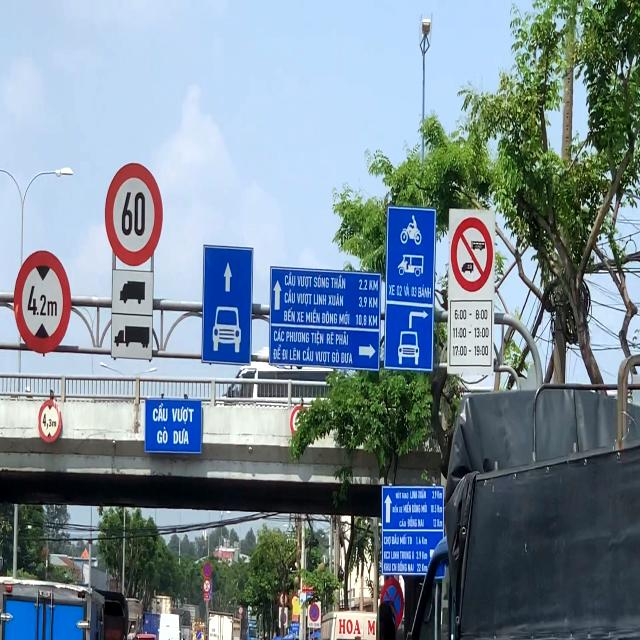P.117: (14, 250, 72, 354), (38, 399, 62, 443)
P.127: (104, 162, 164, 267)
P.130: (381, 578, 404, 632), (309, 603, 320, 622), (204, 562, 212, 578)
